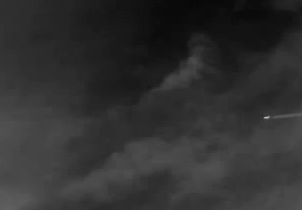Target: (263, 116, 269, 118)
